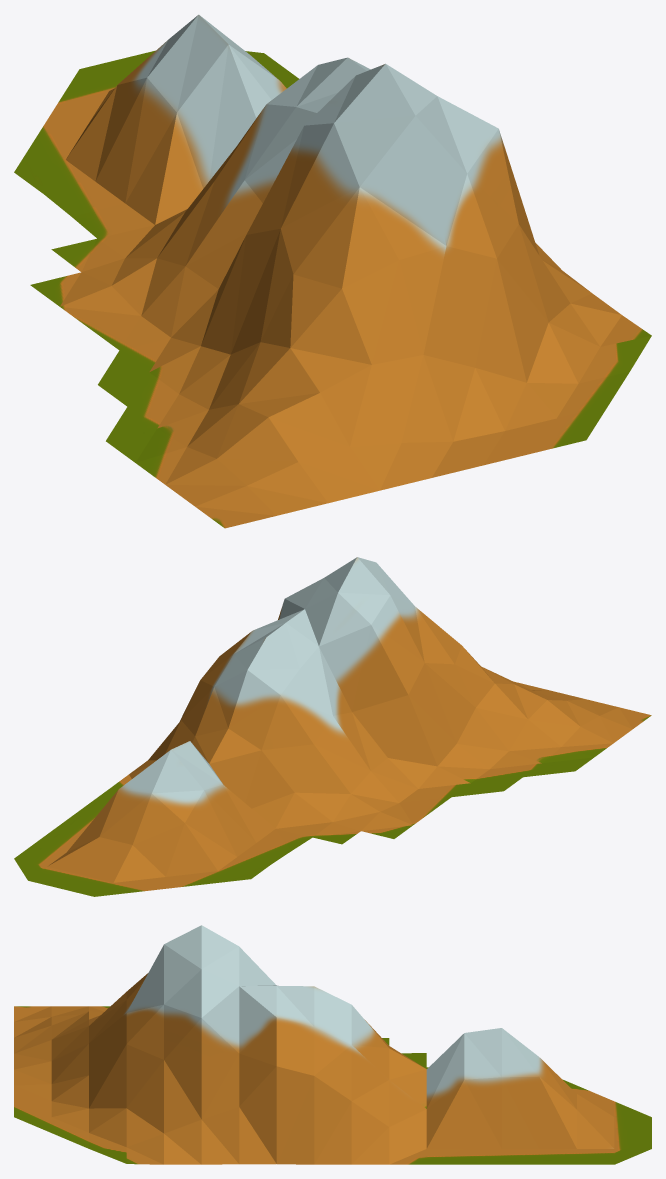
The model's file is mountain.obj.
The picture shows the model from 3 angles, top to bottom: view 1: azimuth 30°, elevation 25°; view 2: azimuth 150°, elevation 25°; view 3: azimuth 270°, elevation 25°; orthographic projection. The views are drawn at different scales.
Visible parts, largest first — view 1: 平面; view 2: 平面; view 3: 平面.
Boxes of the visible parts, left/top/right/bottom form: 平面: left=14, top=14, right=651, bottom=528; 平面: left=14, top=557, right=651, bottom=896; 平面: left=14, top=925, right=651, bottom=1164.
Bounding box in the file's own units: 23.53 × 12.19 × 40.
1 material, 1 textured.
